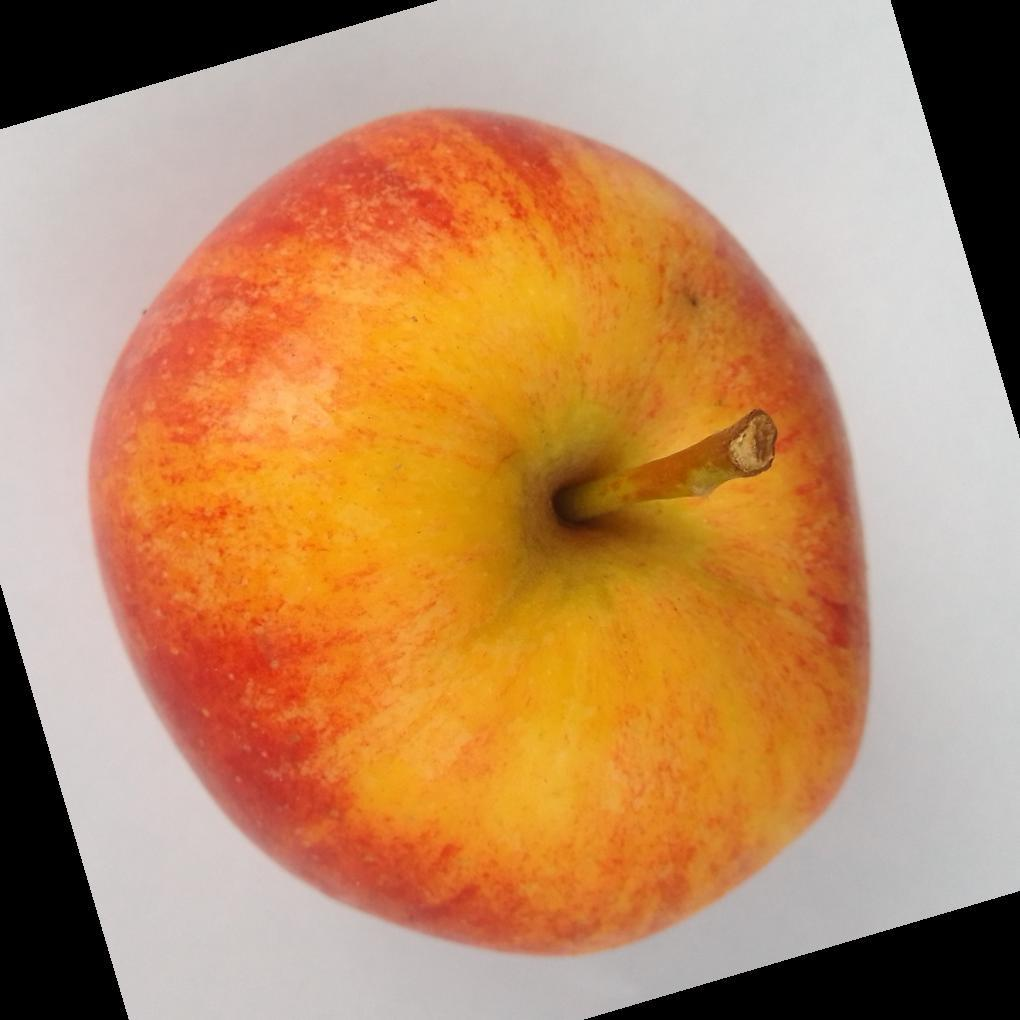FreshGuava: (82, 108, 873, 961)
